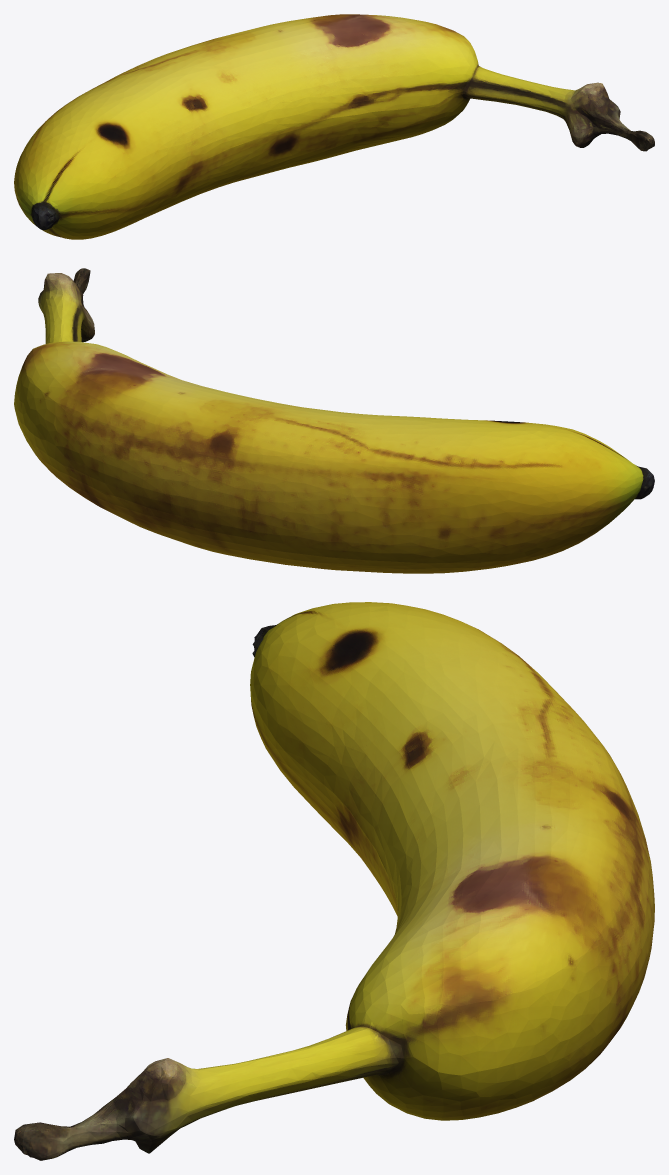
The picture shows the model from 3 angles, top to bottom: view 1: azimuth 30°, elevation 25°; view 2: azimuth 150°, elevation 25°; view 3: azimuth 270°, elevation 25°; orthographic projection. The views are drawn at different scales.
Parts seen in each view (by area): view 1: world; view 2: world; view 3: world.
Boxes of the visible parts, box(x1,y1,x2,y2) form: world: box(14, 14, 654, 239); world: box(14, 268, 654, 573); world: box(14, 602, 654, 1160).
Bounding box in the file's own units: 0.9956 × 0.2111 × 0.5504.
1 material, 1 textured.
